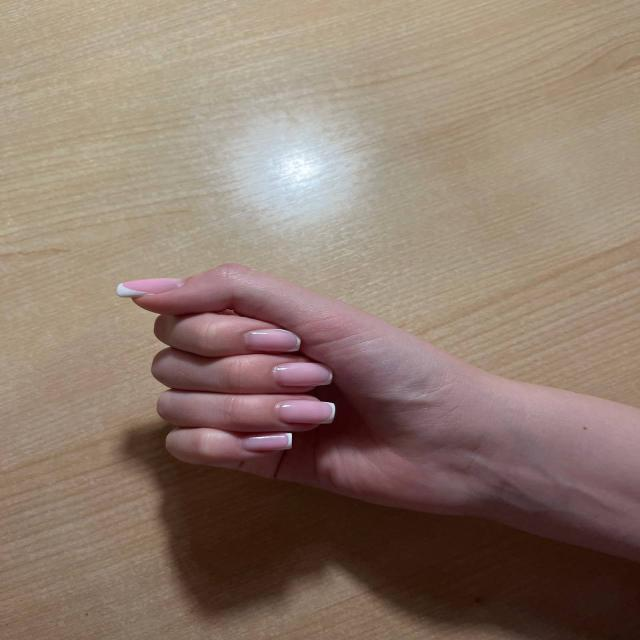a: (104, 218, 516, 507)
